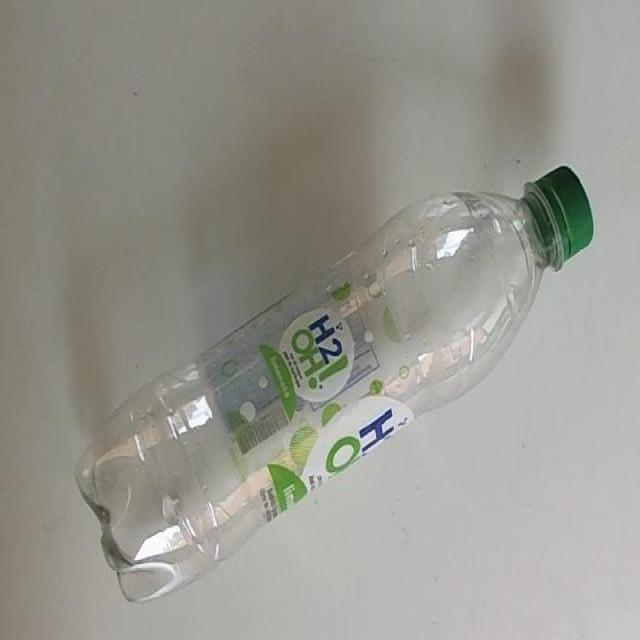non-defect: (73, 164, 596, 606)
